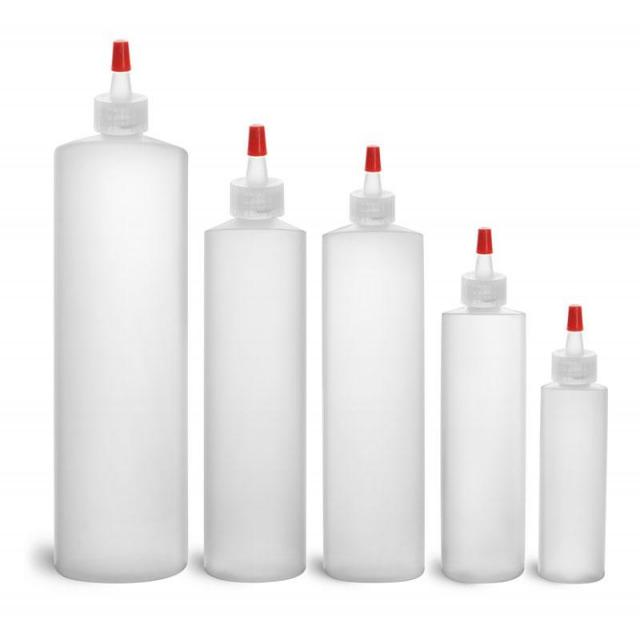plastic_bottle: (43, 39, 194, 591), (198, 119, 314, 594), (317, 136, 435, 586), (433, 217, 534, 590), (537, 314, 616, 589)
